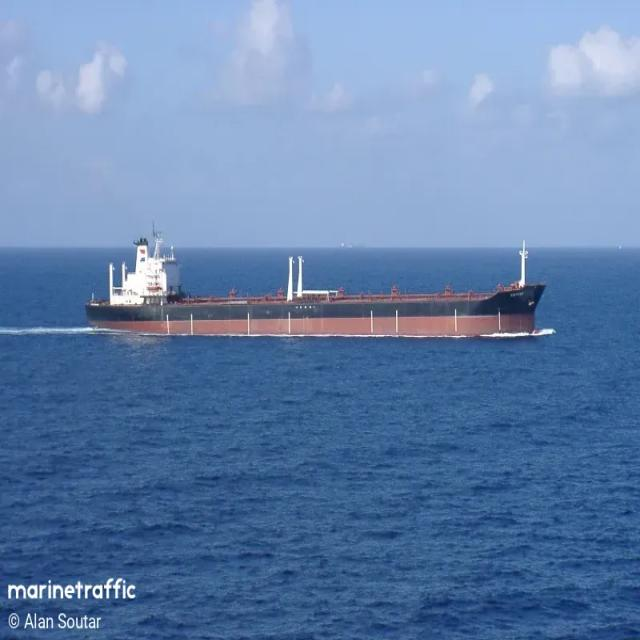Tanker: (86, 234, 547, 337)
